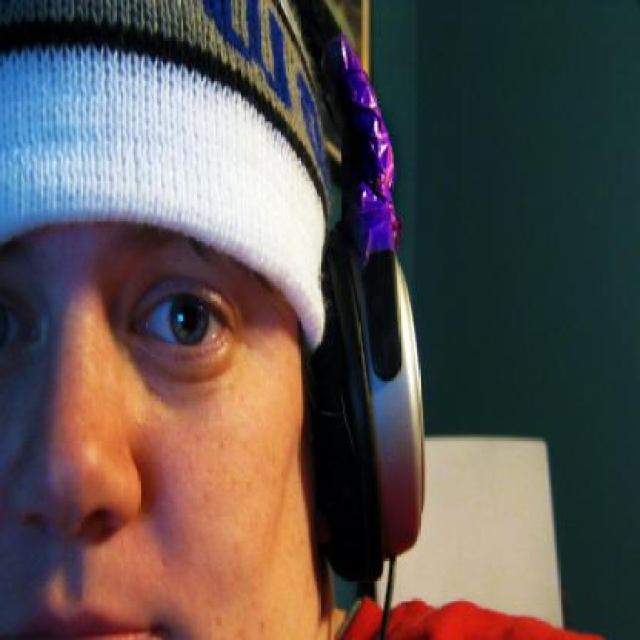tablet: (234, 0, 474, 590)
